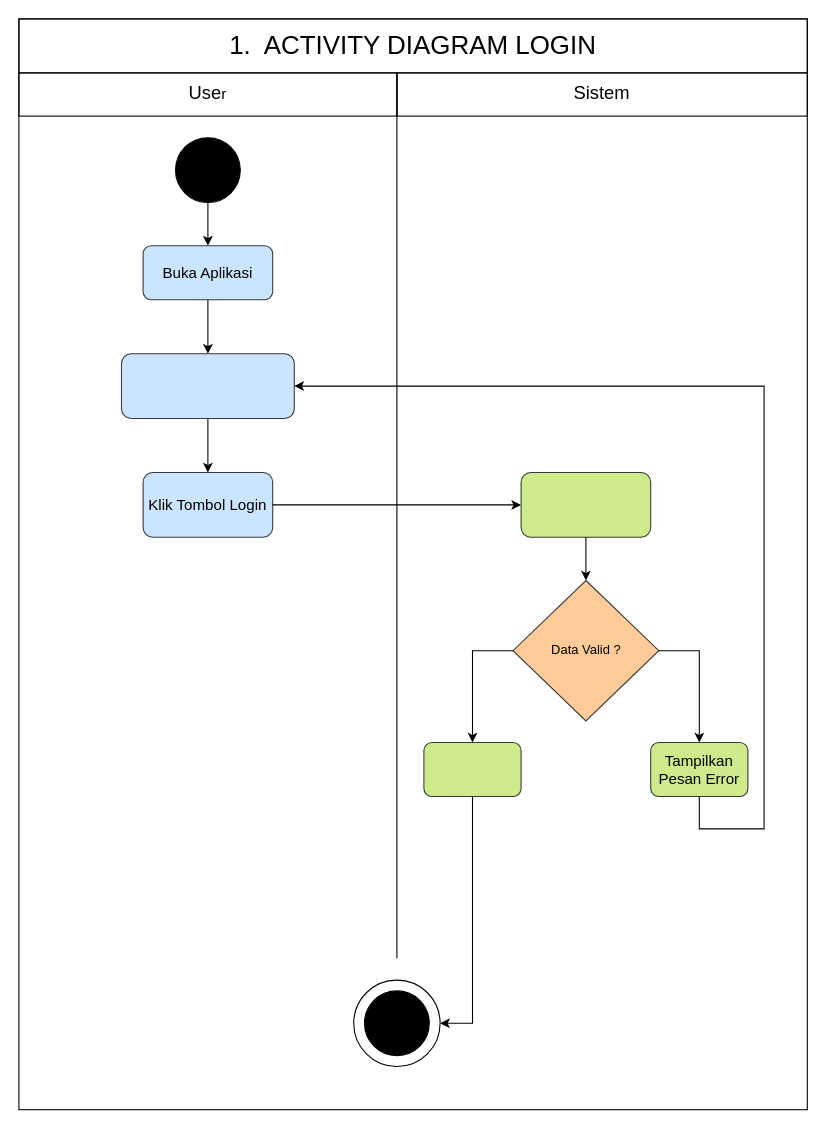
This 826x1129 diagram has some shape labels left out. Each missing label, with the centre of its shape:
Input Username & Password: the point at 207,385
Tampilkan Dashboard: the point at 472,768
Validasi Data Login: the point at 585,504
